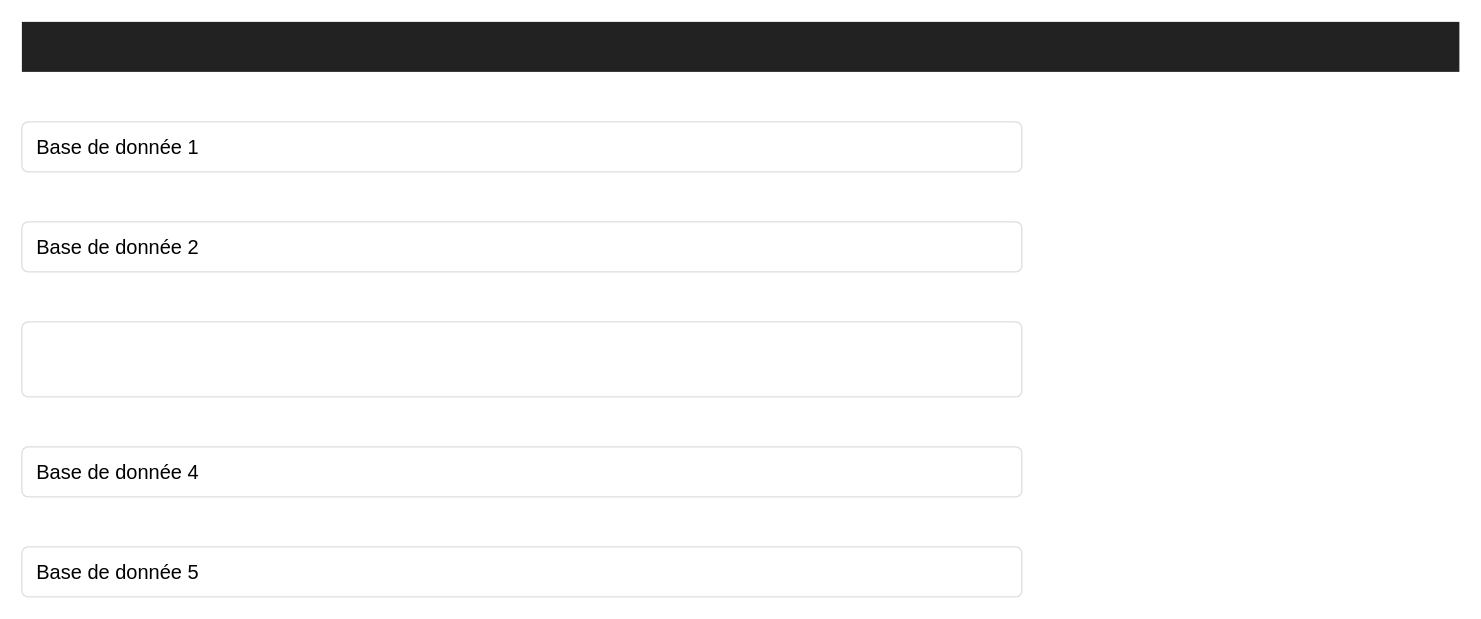
Image size: 1481x619. Some labels were removed from this diagram. The centre of each missing label's shape, as x and y in pixels:
"acceuil" goes at pixel 740 46.
"Base de donnée 3" goes at pixel 521 359.
